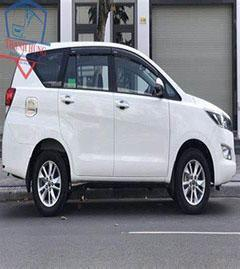car: (0, 22, 240, 230)
